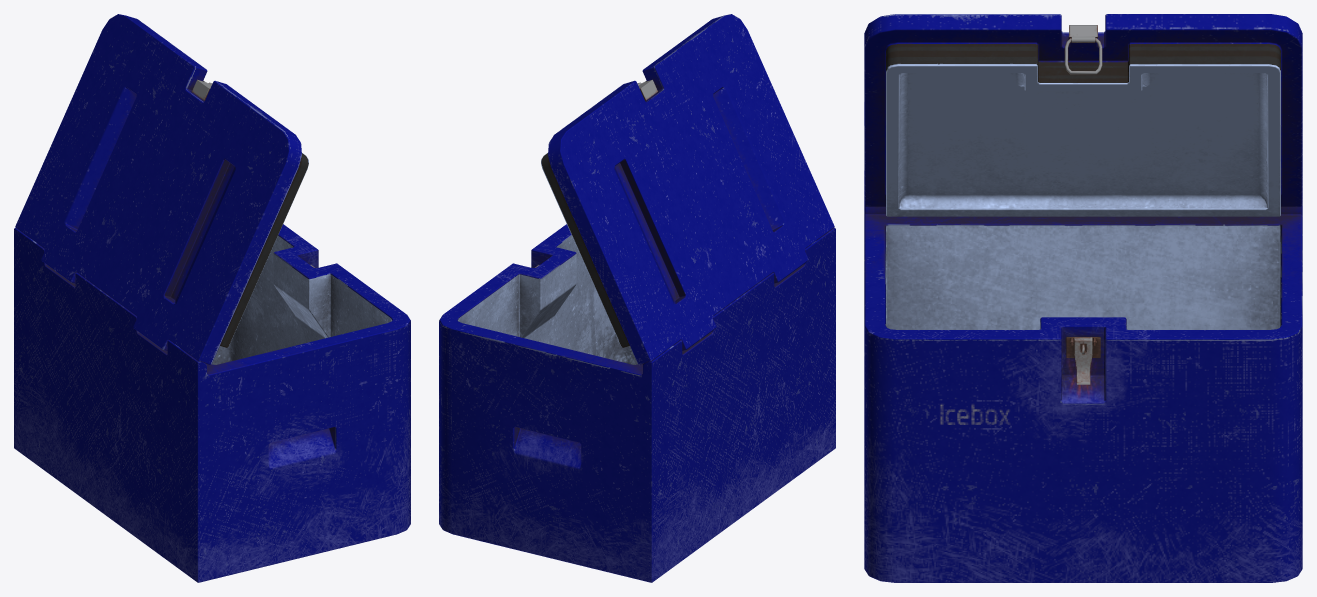
The model's file is cooler_box.glb.
The picture shows the model from 3 angles, left to right: view 1: azimuth 30°, elevation 25°; view 2: azimuth 150°, elevation 25°; view 3: azimuth 270°, elevation 25°; orthographic projection. The views are drawn at different scales.
Visible parts, largest first — view 1: ice Box; view 2: ice Box; view 3: ice Box.
Part boxes in pixels (x1,y1,x2,y2): ice Box: (14,14,410,582); ice Box: (439,14,835,582); ice Box: (864,14,1302,582).
Size of the model in its own units: 0.4114 by 0.7273 by 0.58.
1 material, 1 textured.
